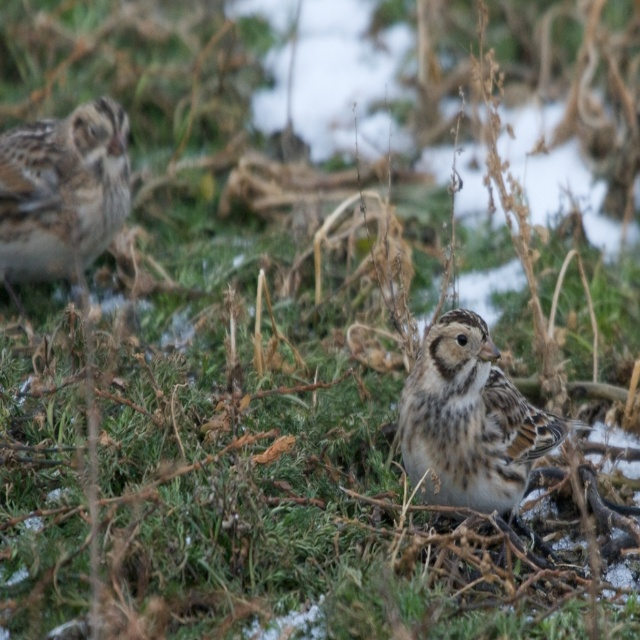Sparrow: (397, 308, 598, 575), (0, 96, 131, 320)
